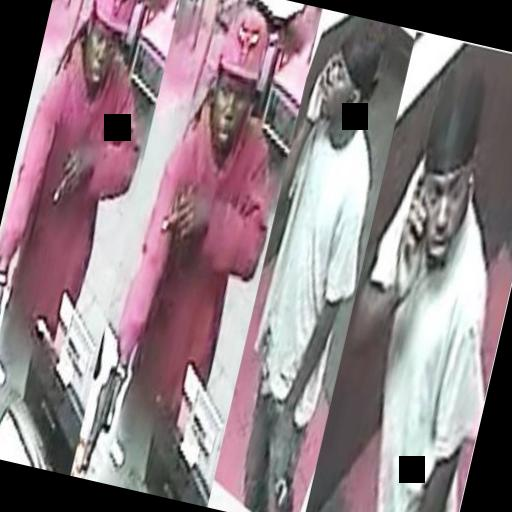Handgun: (64, 343, 132, 482), (0, 261, 19, 398)
